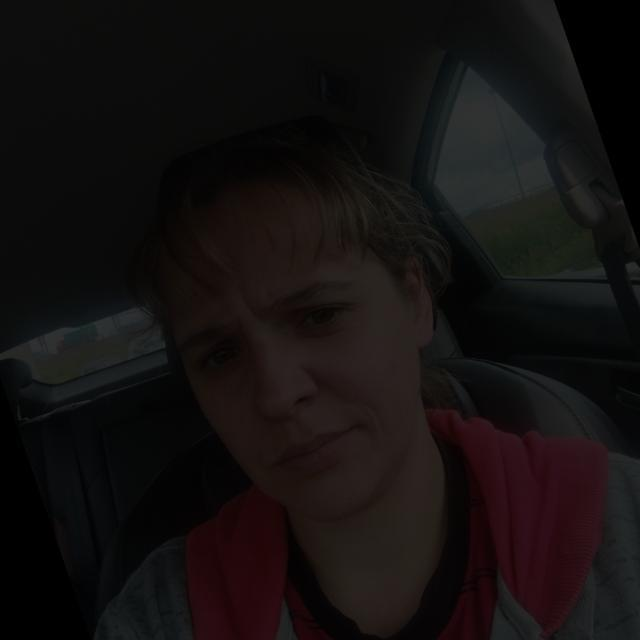Sad: (135, 199, 432, 522)
